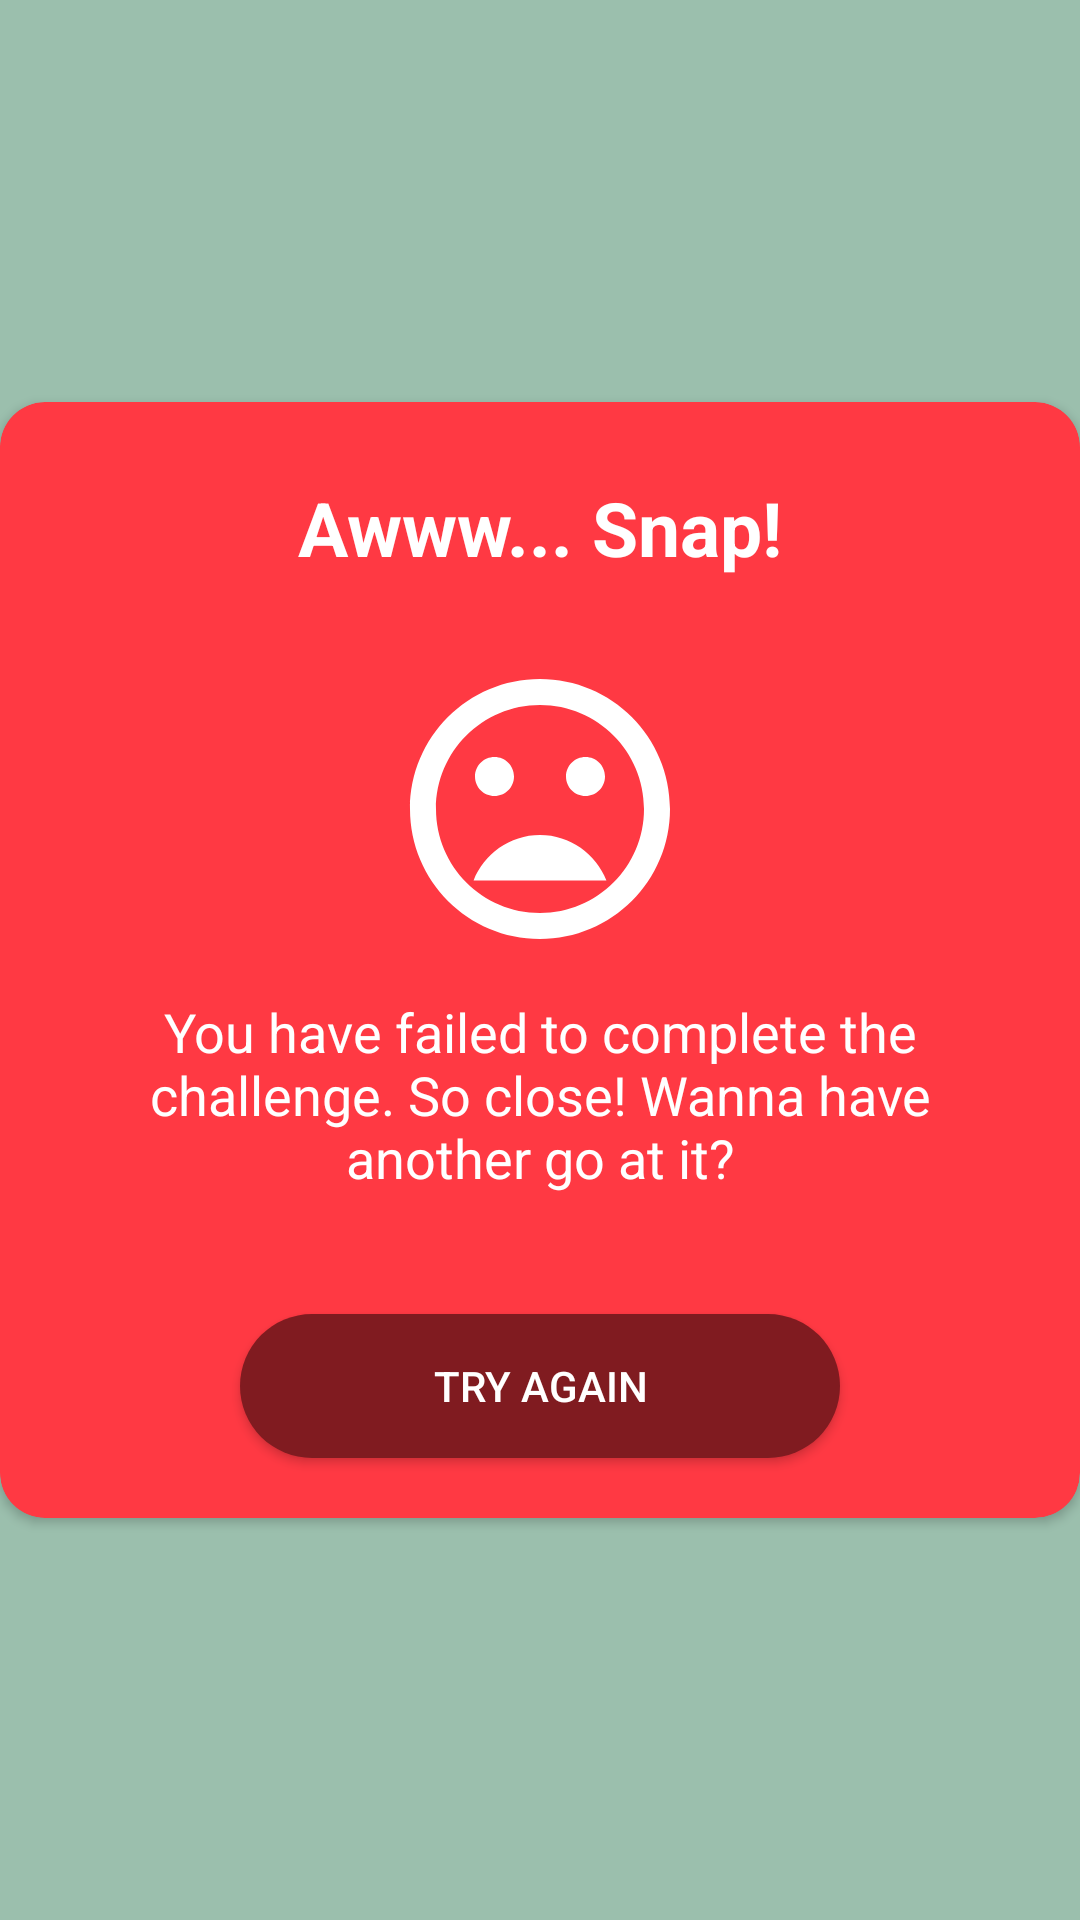

Icons on this 1080px x 1920px Android screen, each with its box as rect(x1, y1, x2, y2):
mood bad: rect(410, 679, 670, 939)
